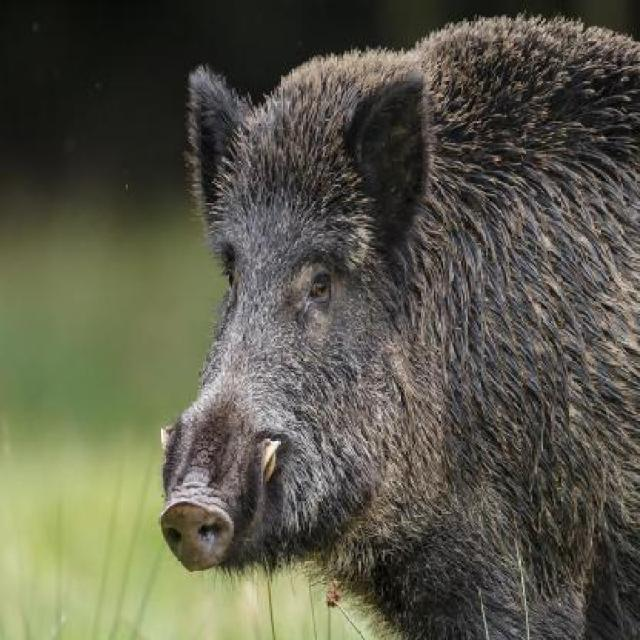wildboar: (155, 12, 640, 640)
